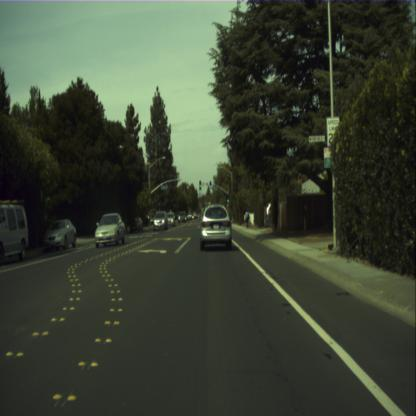Green: (199, 180, 201, 188), (210, 180, 212, 188), (226, 197, 229, 202), (158, 200, 160, 206)
